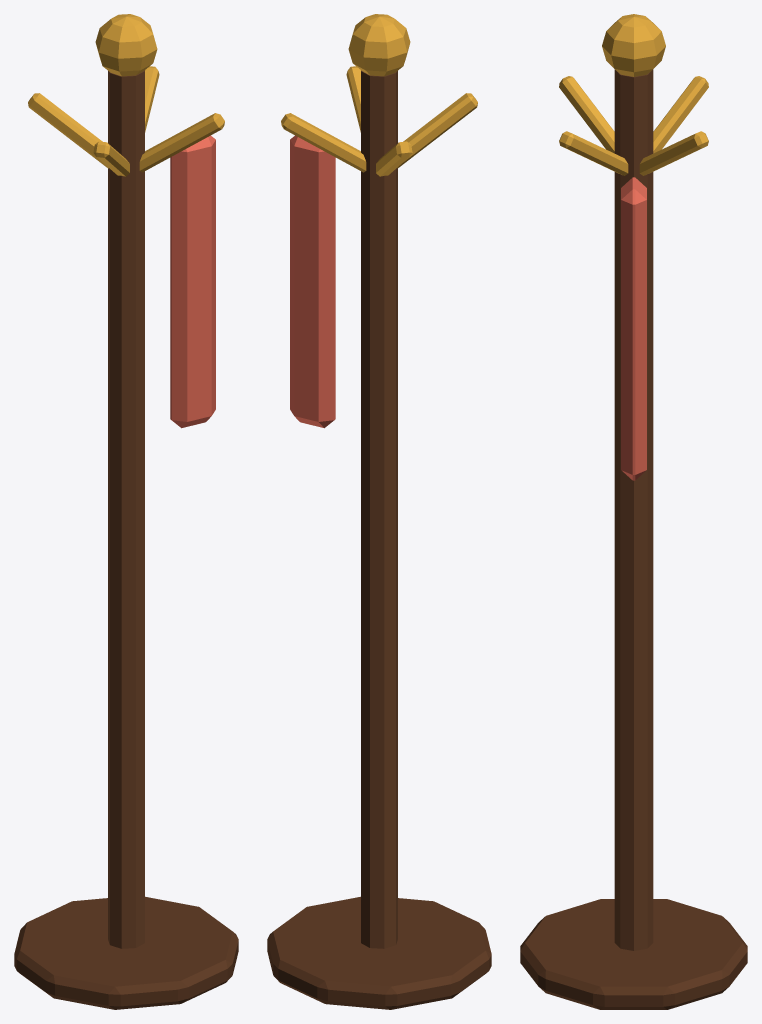
File: coat_stand.glb
3 renders of one model, left to right at view 1: azimuth 30°, elevation 25°; view 2: azimuth 150°, elevation 25°; view 3: azimuth 270°, elevation 25°, orthographic.
Visible parts, largest first — view 1: coat_stand; view 2: coat_stand; view 3: coat_stand.
Part boxes in pixels (box(x1,y1,x2,y2)): coat_stand: box(14, 14, 238, 1009); coat_stand: box(267, 14, 491, 1009); coat_stand: box(520, 14, 747, 1009).
Size of the model in its own units: 0.3424 by 1.63 by 0.3538.
